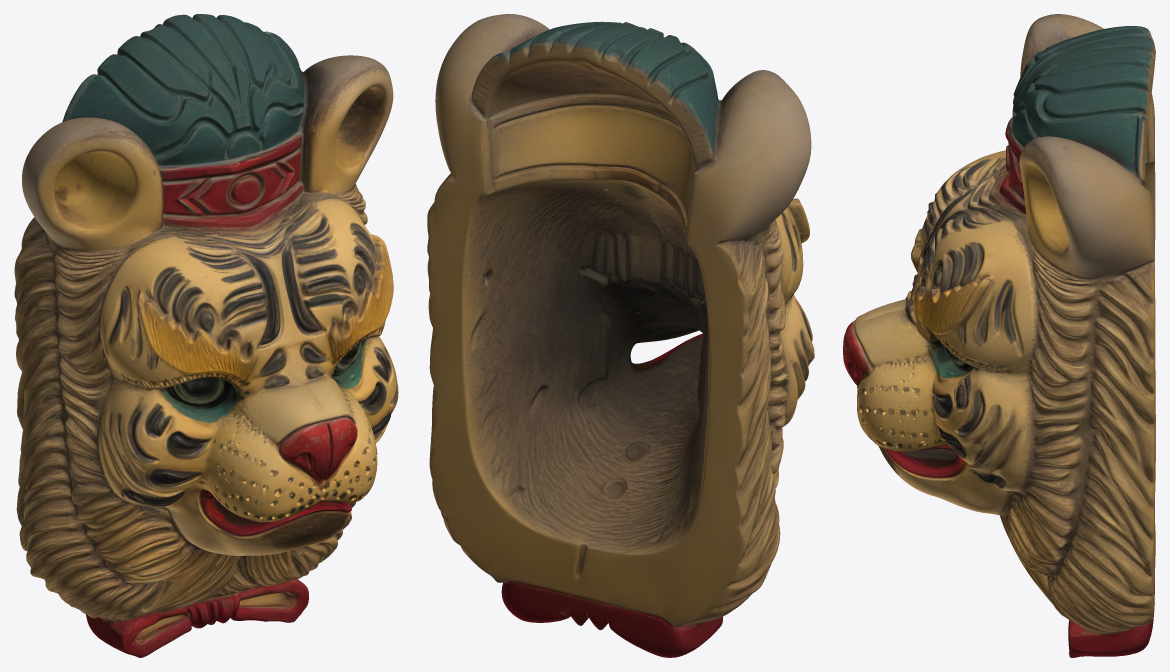
The picture shows the model from 3 angles, left to right: view 1: azimuth 30°, elevation 25°; view 2: azimuth 150°, elevation 25°; view 3: azimuth 270°, elevation 25°; orthographic projection. The views are drawn at different scales.
Parts seen in each view (by area): view 1: node_0; view 2: node_0; view 3: node_0.
Part boxes in pixels (<box>): node_0: <box>14,14,398,657</box>; node_0: <box>427,14,814,657</box>; node_0: <box>843,14,1155,657</box>.
Size of the model in its own units: 0.6732 by 1.07 by 0.5233.
Materials: 1 (1 with a texture image).
